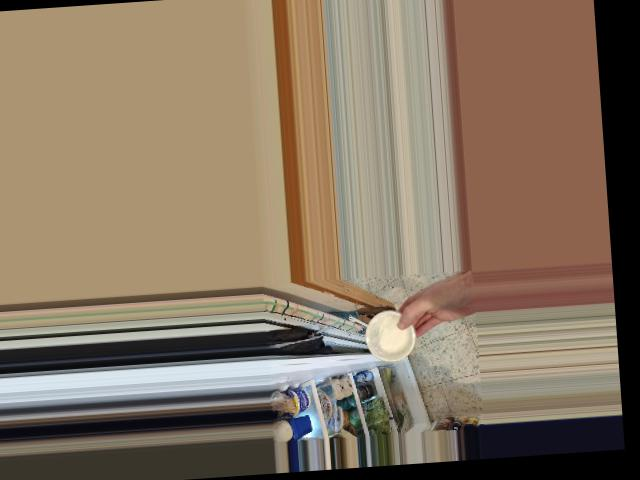cotage: (366, 306, 419, 355)
